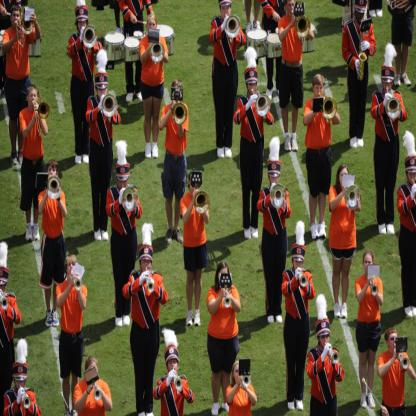face: (234, 364, 245, 383), (142, 255, 152, 274), (364, 255, 374, 274), (389, 333, 398, 352), (340, 168, 349, 187), (169, 356, 179, 372), (89, 365, 99, 381), (12, 12, 21, 29), (287, 1, 296, 18), (221, 5, 231, 20), (29, 90, 38, 106), (320, 332, 329, 348), (220, 271, 229, 287), (408, 166, 416, 184), (16, 378, 26, 391), (48, 166, 57, 180), (148, 20, 157, 34), (315, 85, 324, 99), (98, 87, 108, 99), (119, 178, 129, 190), (295, 258, 304, 271), (270, 175, 280, 186), (68, 263, 77, 275), (248, 83, 257, 95), (79, 21, 87, 33), (384, 80, 392, 92), (357, 10, 365, 21), (1, 283, 5, 295)
